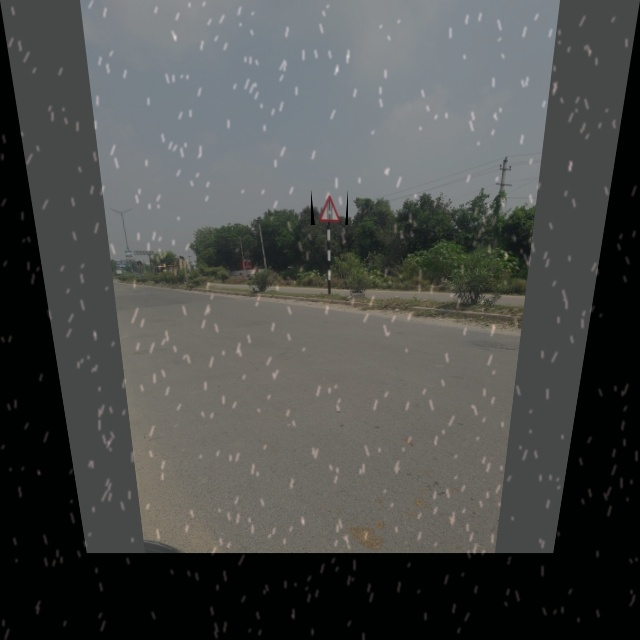Gap_in_Median: (311, 189, 348, 225)
